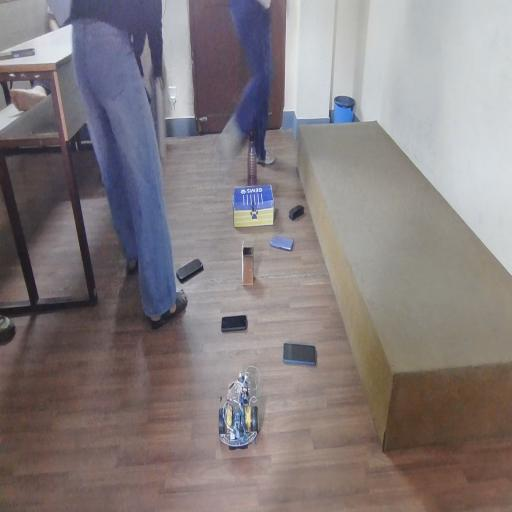Bottle: (243, 131, 266, 184)
car: (213, 384, 286, 449)
